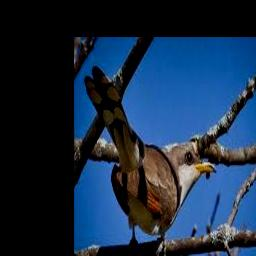Cuckoo: (85, 66, 217, 246)
